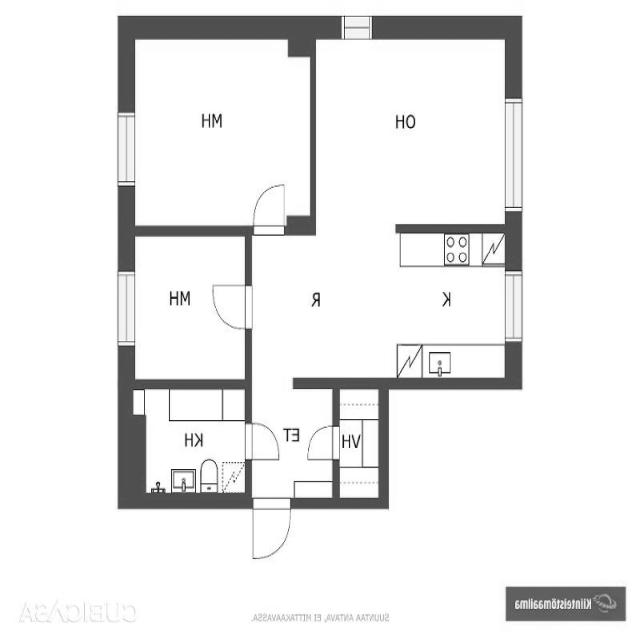door: (336, 387, 382, 503), (248, 496, 296, 565), (244, 175, 292, 240), (209, 278, 254, 334), (242, 419, 285, 468), (303, 423, 341, 466)
window: (498, 90, 530, 222), (110, 258, 138, 365), (111, 96, 139, 202), (502, 261, 528, 362), (332, 6, 380, 44)
zone: (245, 232, 516, 383), (311, 30, 512, 226), (126, 36, 314, 227), (125, 232, 254, 384), (124, 384, 252, 500), (249, 390, 335, 505), (336, 388, 382, 502)
